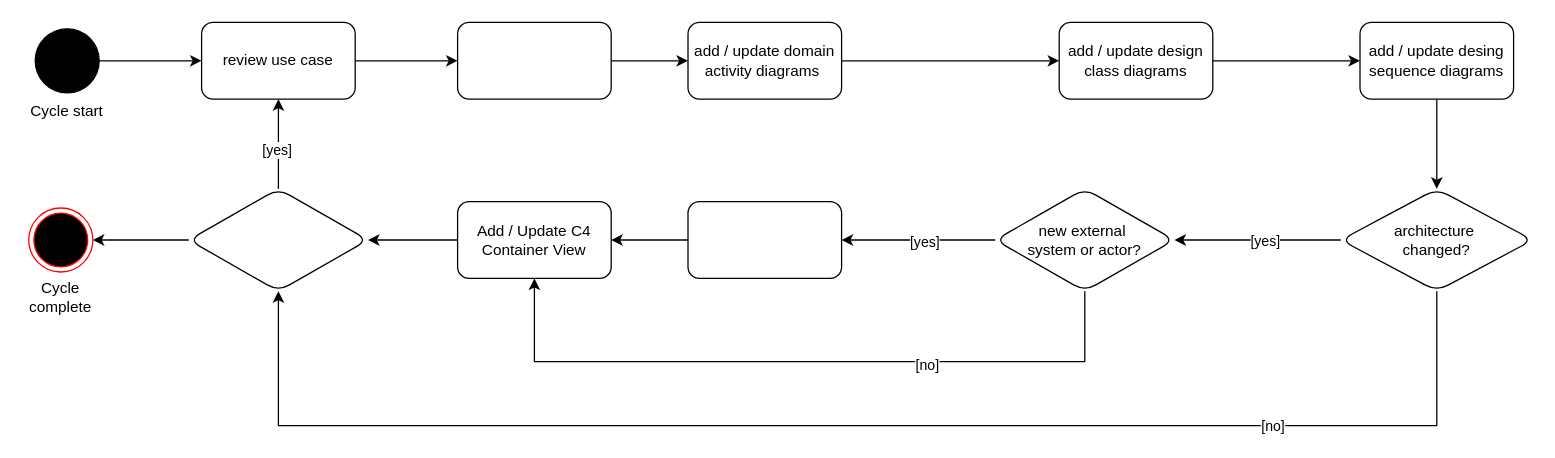
This 1555x458 diagram has some shape labels left out. Here are the shapes that lost their labels. From the top down, the centre of each, then its label:
At point 533,60: "add / update domain class diagrams".
At point 278,239: "more use cases?".
At point 764,239: "Add Update C4 context view".
